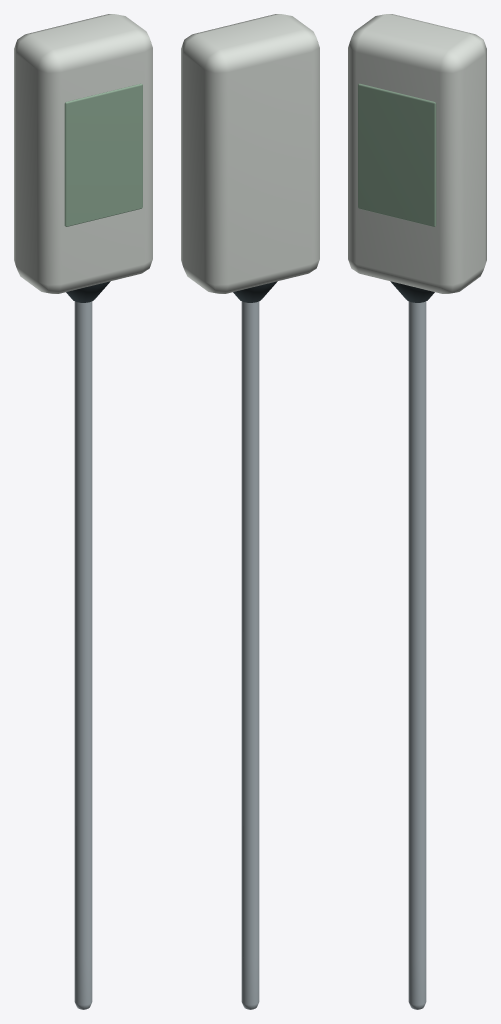
The model's file is VLAB_thermometer.fbx.
3 views of the same model, side by side, from view 1: azimuth 30°, elevation 25°; view 2: azimuth 210°, elevation 25°; view 3: azimuth 330°, elevation 25° (orthographic).
Parts seen in each view (by area): view 1: VLAB_thermometer_Body_VIS, VLAB_thermometer_Probe_VIS, VLAB_thermometer_DisplayOrScale_VIS; view 2: VLAB_thermometer_Body_VIS, VLAB_thermometer_Probe_VIS; view 3: VLAB_thermometer_Body_VIS, VLAB_thermometer_Probe_VIS, VLAB_thermometer_DisplayOrScale_VIS.
Boxes of the visible parts, x1,y1,x2,y2 form: VLAB_thermometer_Body_VIS: (14,14,152,302); VLAB_thermometer_Probe_VIS: (74,301,92,1009); VLAB_thermometer_DisplayOrScale_VIS: (64,83,142,226); VLAB_thermometer_Body_VIS: (181,14,319,302); VLAB_thermometer_Probe_VIS: (241,301,259,1009); VLAB_thermometer_Body_VIS: (348,14,486,302); VLAB_thermometer_Probe_VIS: (408,301,426,1009); VLAB_thermometer_DisplayOrScale_VIS: (358,83,436,226).
Size of the model in its own units: 0.022 by 0.18 by 0.0136.
